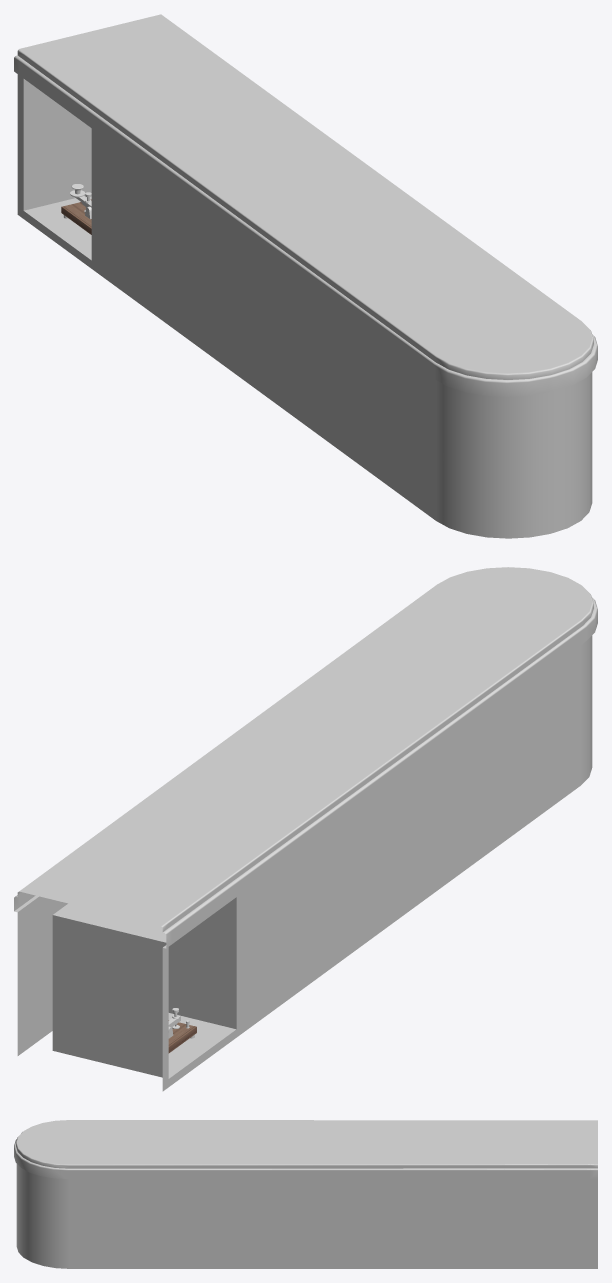
Rendered from SM_Bar.fbx.
3 renders of one model, top to bottom at view 1: azimuth 30°, elevation 25°; view 2: azimuth 150°, elevation 25°; view 3: azimuth 270°, elevation 25°, orthographic. The views are drawn at different scales.
Parts seen in each view (by area): view 1: SM_Bar, Cube.013; view 2: SM_Bar, Cube.013; view 3: SM_Bar.
Part boxes in pixels (left/top/right/bottom): SM_Bar: left=14, top=14, right=597, bottom=538; Cube.013: left=61, top=184, right=91, bottom=234; SM_Bar: left=14, top=567, right=597, bottom=1091; Cube.013: left=168, top=1008, right=196, bottom=1053; SM_Bar: left=14, top=1120, right=597, bottom=1268.
Bounding box in the file's own units: 105 × 109 × 552.
